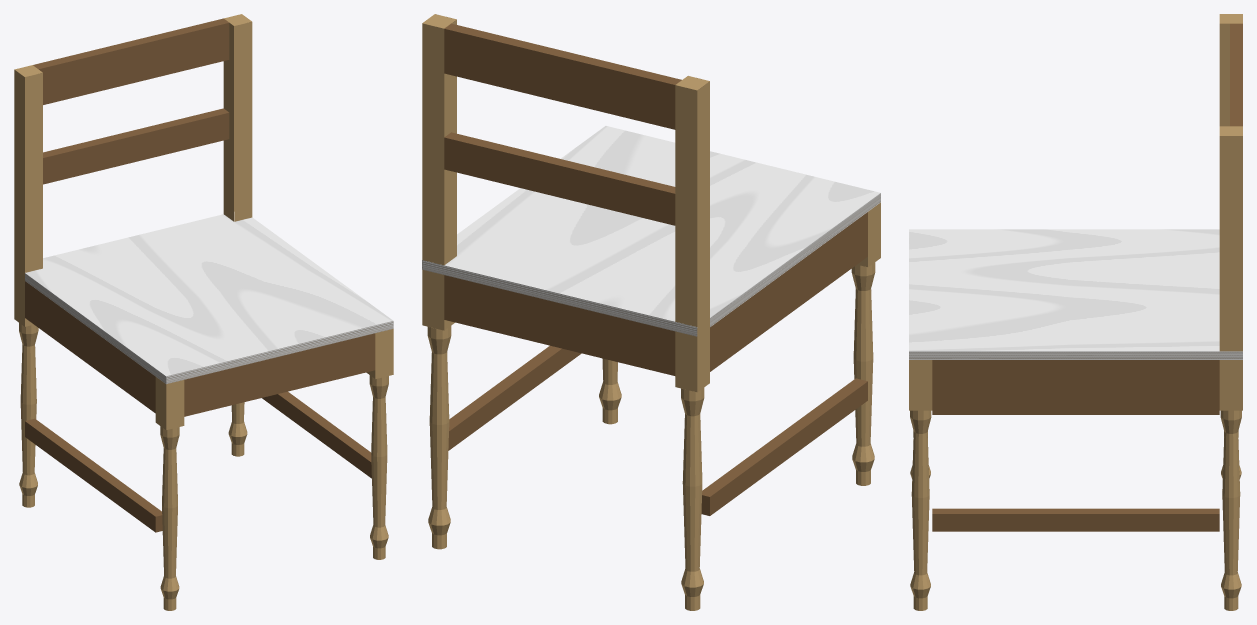
The model's file is FET-DCH-std.glb.
3 views of the same model, side by side, from view 1: azimuth 30°, elevation 25°; view 2: azimuth 150°, elevation 25°; view 3: azimuth 270°, elevation 25° (orthographic). The views are drawn at different scales.
Parts seen in each view (by area): view 1: seat:sheet:eyJtIjoicGx5Iiwic2lkZSI6ImZhY2UiLCJzZWVkIjo2LCJ2Z, leg-bl:pbr, back-top:pbr, rail-f:pbr, leg-br:pbr, back-mid:pbr, rail-l:pbr, leg-fl:pbr, leg-fr:pbr, stretcher-l:pbr, stretcher-r:pbr, seat:sheet:eyJtIjoicGx5Iiwic2lkZSI6ImVkZ2UtZW5kIiwic2VlZCI6N (+1 smaller); view 2: seat:sheet:eyJtIjoicGx5Iiwic2lkZSI6ImZhY2UiLCJzZWVkIjo2LCJ2Z, leg-bl:pbr, leg-br:pbr, back-top:pbr, rail-b:pbr, back-mid:pbr, rail-l:pbr, stretcher-l:pbr, leg-fl:pbr, stretcher-r:pbr, seat:sheet:eyJtIjoicGx5Iiwic2lkZSI6ImVkZ2UtZW5kIiwic2VlZCI6N, seat:sheet:eyJtIjoicGx5Iiwic2lkZSI6ImVkZ2UtbG9uZyIsInNlZWQiO (+1 smaller); view 3: seat:sheet:eyJtIjoicGx5Iiwic2lkZSI6ImZhY2UiLCJzZWVkIjo2LCJ2Z, rail-r:pbr, leg-br:pbr, stretcher-r:pbr, leg-fr:pbr, stretcher-l:pbr, seat:sheet:eyJtIjoicGx5Iiwic2lkZSI6ImVkZ2UtbG9uZyIsInNlZWQiO, leg-bl:pbr, back-top:pbr.
Part boxes in pixels (x1,y1,x2,y2): seat:sheet:eyJtIjoicGx5Iiwic2lkZSI6ImZhY2UiLCJzZWVkIjo2LCJ2Z: (25,212,393,376); leg-bl:pbr: (14,65,42,507); back-top:pbr: (33,18,229,104); rail-f:pbr: (184,333,375,416); leg-br:pbr: (223,14,252,456); back-mid:pbr: (43,108,229,184); rail-l:pbr: (25,281,155,413); leg-fl:pbr: (155,377,184,610); leg-fr:pbr: (366,329,393,559); stretcher-l:pbr: (25,418,162,532); stretcher-r:pbr: (262,391,371,478); seat:sheet:eyJtIjoicGx5Iiwic2lkZSI6ImVkZ2UtZW5kIiwic2VlZCI6N: (166,321,393,383); seat:sheet:eyJtIjoicGx5Iiwic2lkZSI6ImZhY2UiLCJzZWVkIjo2LCJ2Z: (444,126,880,321); leg-bl:pbr: (675,76,709,610); leg-br:pbr: (422,14,456,549); back-top:pbr: (444,23,681,129); rail-b:pbr: (444,275,675,375); back-mid:pbr: (444,132,675,225); rail-l:pbr: (710,212,867,371); stretcher-l:pbr: (701,378,867,515); leg-fl:pbr: (851,202,880,485); stretcher-r:pbr: (448,345,581,450); seat:sheet:eyJtIjoicGx5Iiwic2lkZSI6ImVkZ2UtZW5kIiwic2VlZCI6N: (422,260,697,336); seat:sheet:eyJtIjoicGx5Iiwic2lkZSI6ImVkZ2UtbG9uZyIsInNlZWQiO: (710,193,880,326); seat:sheet:eyJtIjoicGx5Iiwic2lkZSI6ImZhY2UiLCJzZWVkIjo2LCJ2Z: (909,229,1219,351); rail-r:pbr: (932,360,1219,400); leg-br:pbr: (1219,126,1242,610); stretcher-r:pbr: (932,508,1219,531); leg-fr:pbr: (909,360,932,610); stretcher-l:pbr: (932,400,1219,414); seat:sheet:eyJtIjoicGx5Iiwic2lkZSI6ImVkZ2UtbG9uZyIsInNlZWQiO: (909,351,1242,359); leg-bl:pbr: (1219,14,1242,478); back-top:pbr: (1230,23,1242,126).
Bounding box in the file's own units: 0.4501 × 0.82 × 0.52.
Materials: 15 (3 with a texture image).
